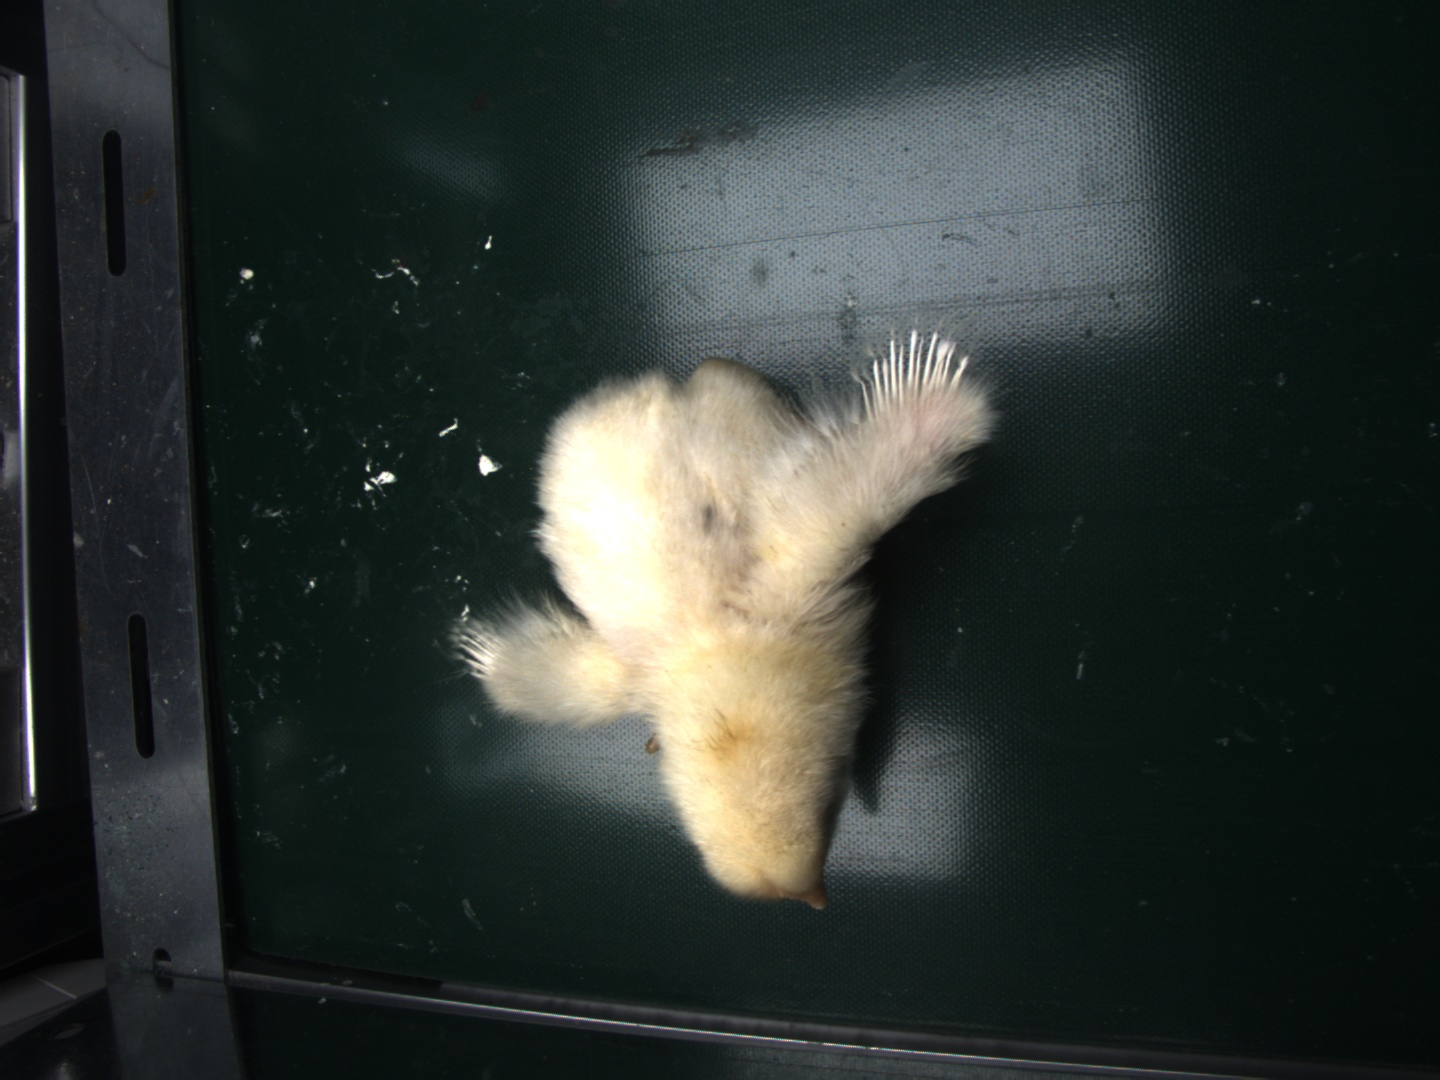male: (862, 330, 973, 410)
